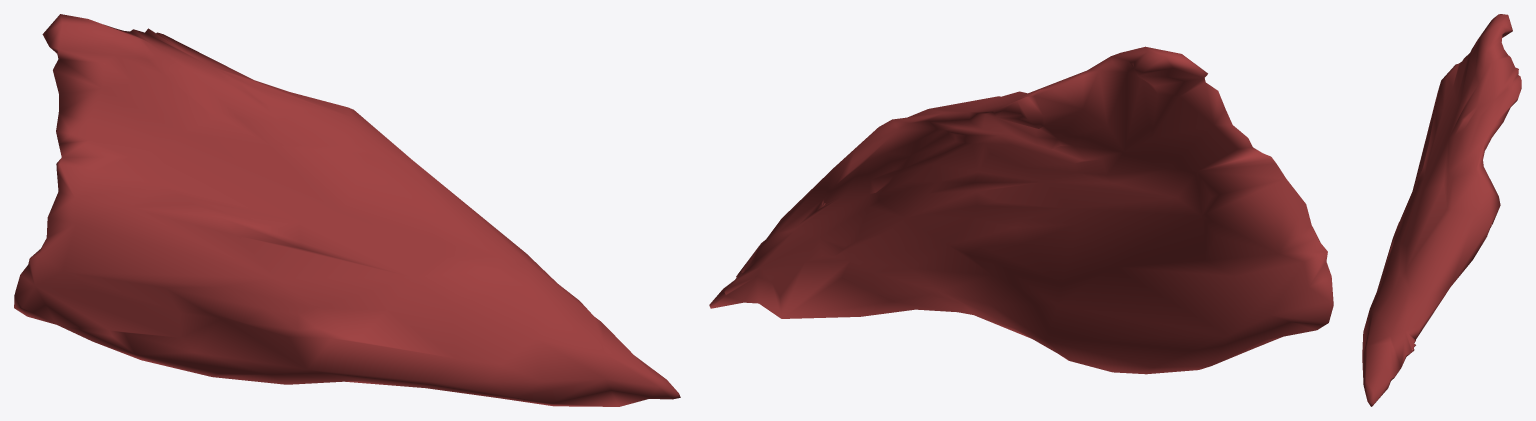
The model's file is deep-head-of-flexor-pollicis-brevis-l.glb.
The picture shows the model from 3 angles, left to right: view 1: azimuth 30°, elevation 25°; view 2: azimuth 150°, elevation 25°; view 3: azimuth 270°, elevation 25°; orthographic projection. The views are drawn at different scales.
Visible parts, largest first — view 1: Deep head of flexor pollicis brevis.l; view 2: Deep head of flexor pollicis brevis.l; view 3: Deep head of flexor pollicis brevis.l.
Part boxes in pixels (left/top/right/bottom): Deep head of flexor pollicis brevis.l: left=14, top=14, right=680, bottom=406; Deep head of flexor pollicis brevis.l: left=709, top=46, right=1333, bottom=374; Deep head of flexor pollicis brevis.l: left=1362, top=14, right=1521, bottom=406.
Bounding box in the file's own units: 0.0494 × 0.0333 × 0.0194.
